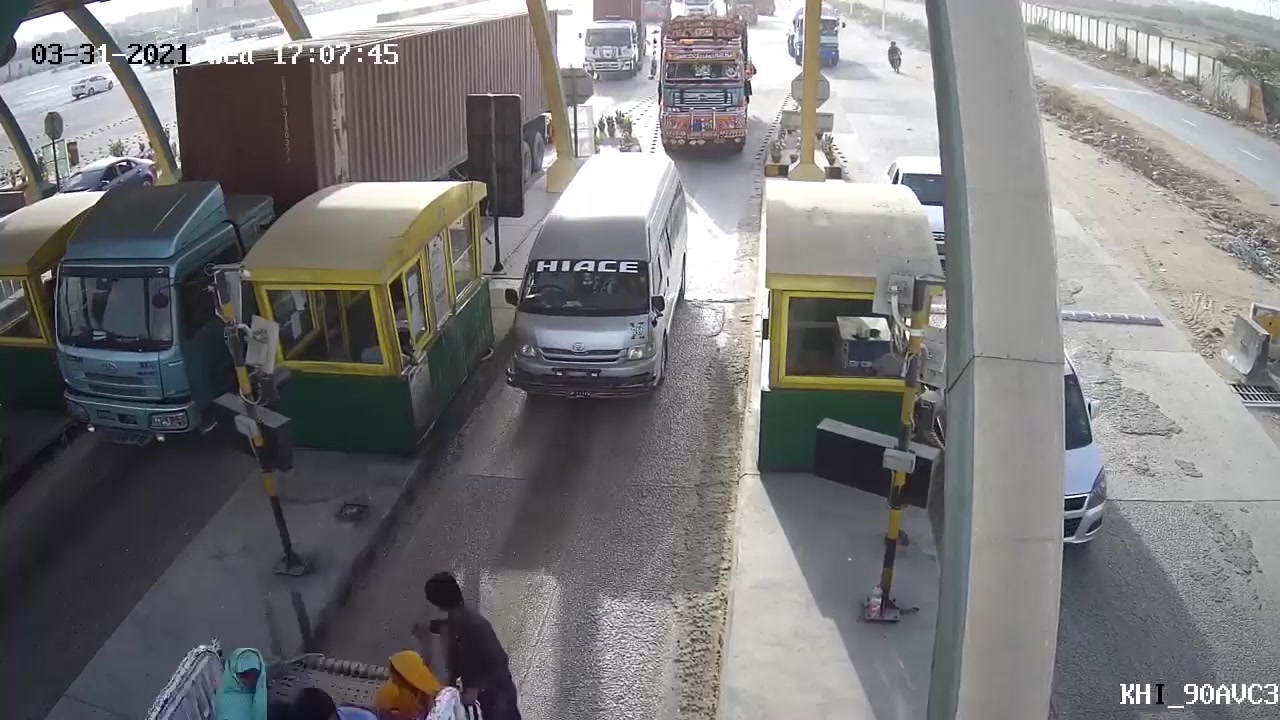F2: (487, 149, 701, 403)
